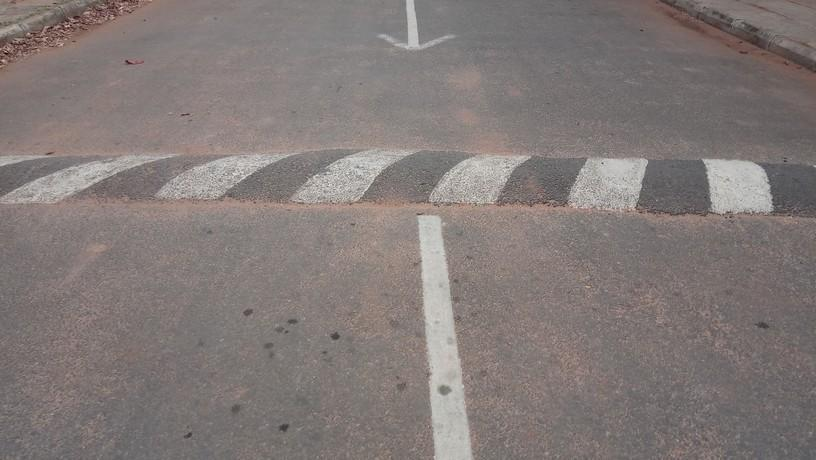speedbreaker: (4, 149, 816, 224)
